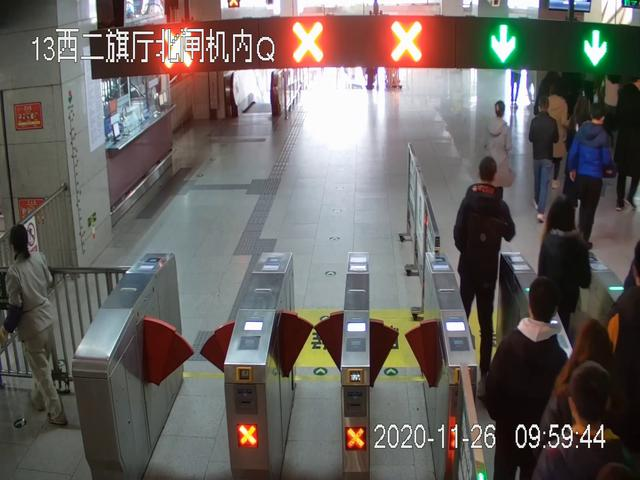person: (481, 278, 584, 480), (453, 158, 517, 398), (1, 224, 71, 427), (538, 194, 593, 366), (567, 106, 612, 250), (528, 96, 561, 222), (483, 101, 518, 215)
